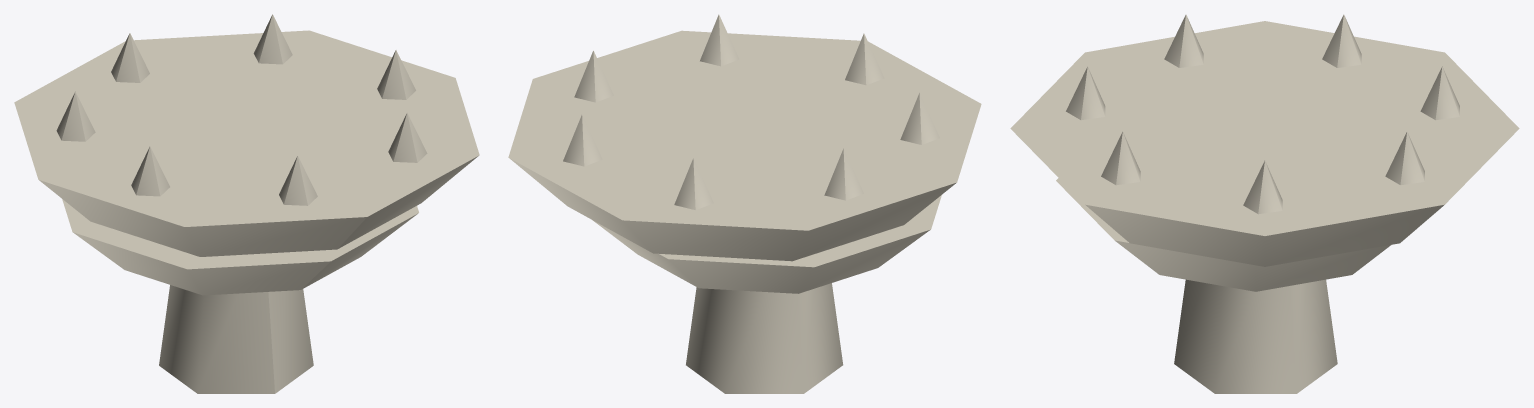
The model's file is coral-2.glb.
The picture shows the model from 3 angles, left to right: view 1: azimuth 30°, elevation 25°; view 2: azimuth 150°, elevation 25°; view 3: azimuth 270°, elevation 25°; orthographic projection. The views are drawn at different scales.
Visible parts, largest first — view 1: coral-2; view 2: coral-2; view 3: coral-2.
Part boxes in pixels (x1,y1,x2,y2): coral-2: [14, 14, 479, 393]; coral-2: [508, 14, 981, 393]; coral-2: [1010, 14, 1519, 393].
Bounding box in the file's own units: 0.56 × 0.35 × 0.56.
